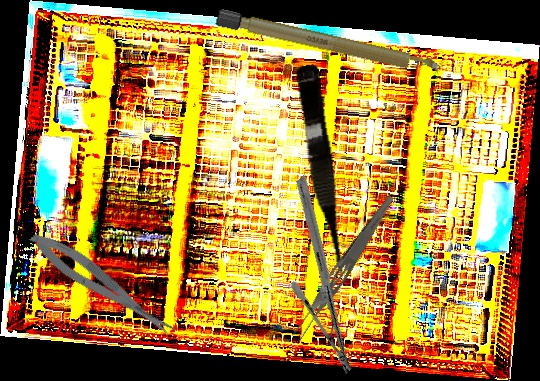Dressing Forceps: (287, 190, 398, 345)
Micro Scissor: (25, 224, 181, 348), (289, 63, 353, 284)
Needle Holder: (225, 174, 424, 376)
Scalpel Handle: (213, 8, 446, 78)
